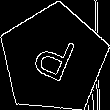P_SW: (27, 29, 80, 90)
